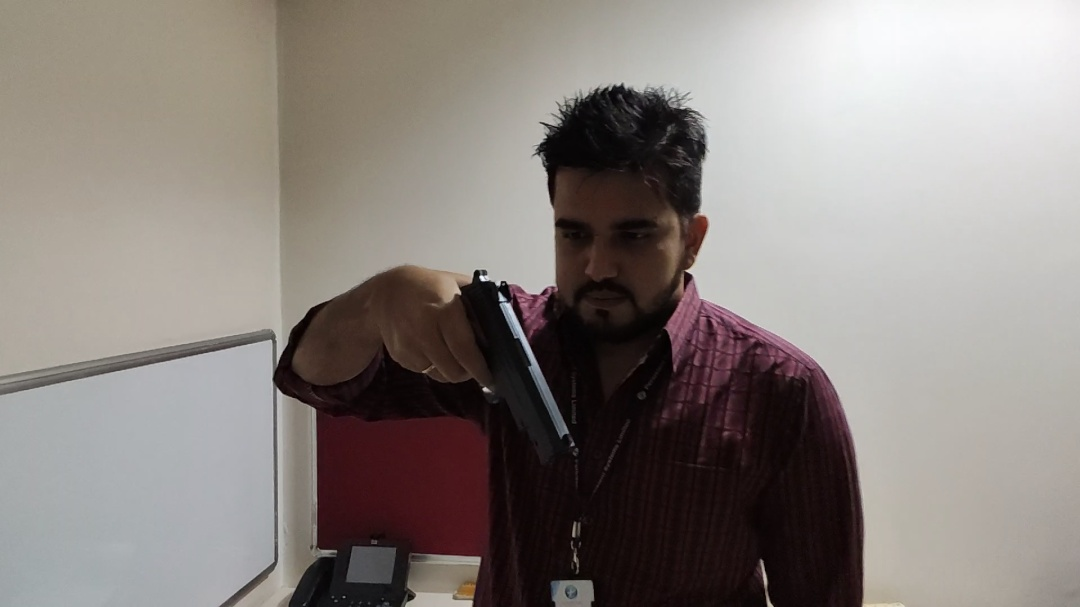gun: (431, 264, 583, 481)
